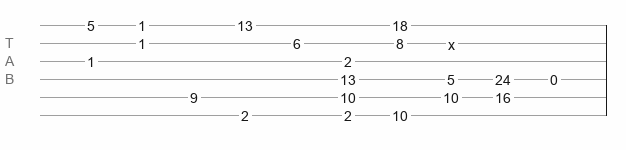0: (550, 72, 558, 82)
1: (87, 54, 95, 64), (138, 36, 146, 46), (138, 18, 146, 28)
10: (340, 90, 356, 100), (392, 108, 408, 118), (443, 90, 459, 100)
13: (237, 18, 253, 28), (340, 72, 356, 82)
16: (495, 90, 511, 100)
18: (392, 18, 408, 28)
2: (241, 108, 249, 118), (344, 54, 352, 64), (344, 108, 352, 118)
24: (495, 72, 511, 82)
5: (87, 18, 95, 28), (447, 72, 455, 82)
6: (293, 36, 301, 46)
8: (396, 36, 404, 46)
9: (190, 90, 198, 100)
x: (448, 37, 455, 45)
